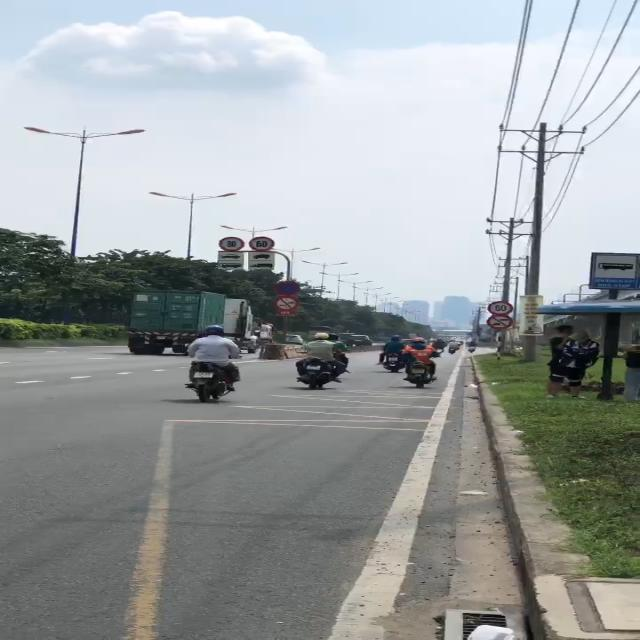Bien bao toc do toi da cho phep: (247, 234, 279, 253), (484, 299, 516, 316), (217, 235, 245, 252)
